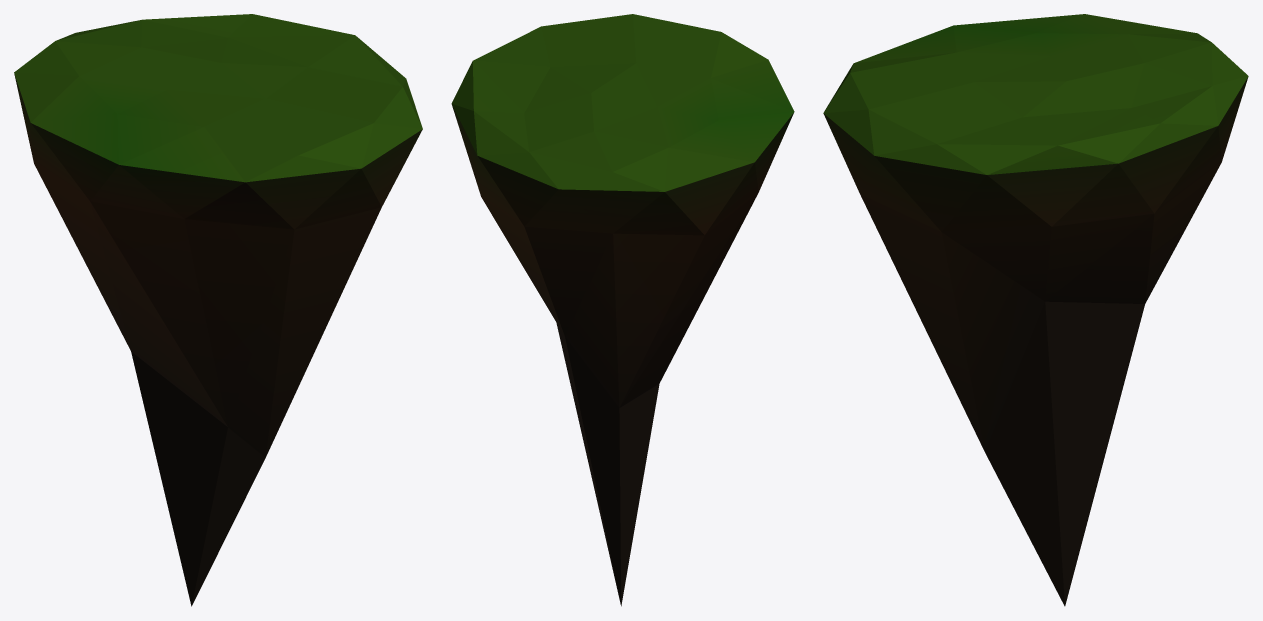
Rendered from tiny_island.fbx.
3 views of the same model, side by side, from view 1: azimuth 30°, elevation 25°; view 2: azimuth 150°, elevation 25°; view 3: azimuth 270°, elevation 25° (orthographic). The views are drawn at different scales.
Visible parts, largest first — view 1: tiny_island; view 2: tiny_island; view 3: tiny_island.
Boxes of the visible parts, bbox=[...] form: tiny_island: bbox=[14, 14, 422, 606]; tiny_island: bbox=[451, 14, 794, 606]; tiny_island: bbox=[823, 14, 1248, 606].
Bounding box in the file's own units: 2.2 × 3.45 × 2.46.
